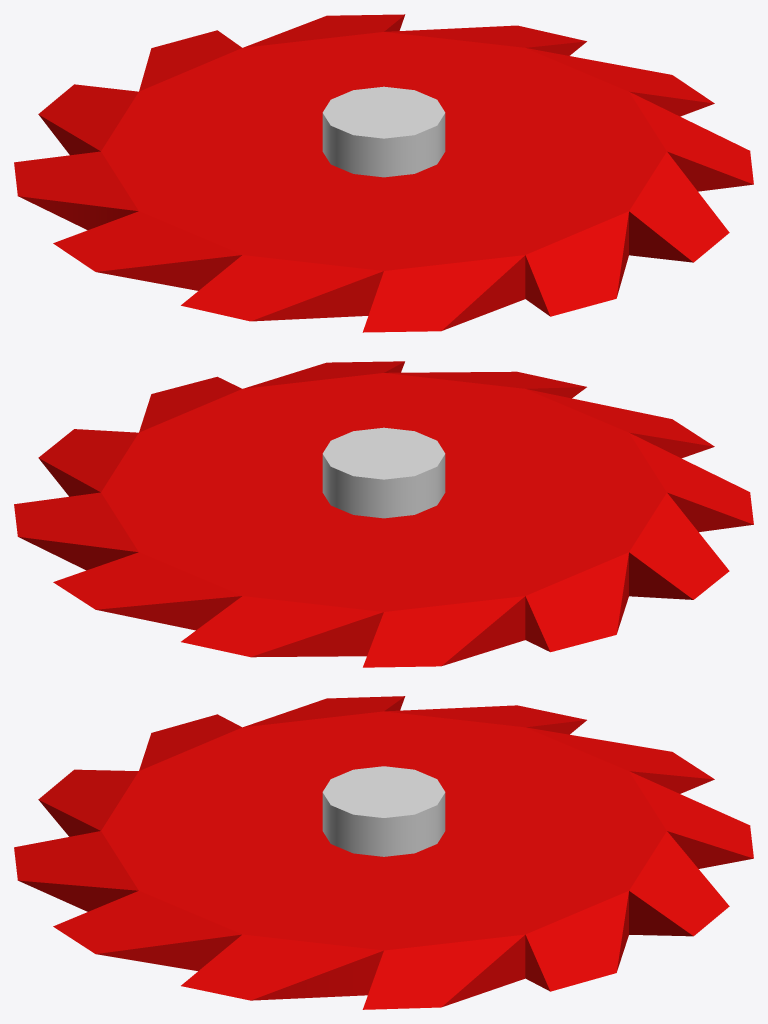
The model's file is blade.fbx.
3 renders of one model, top to bottom at view 1: azimuth 30°, elevation 25°; view 2: azimuth 150°, elevation 25°; view 3: azimuth 270°, elevation 25°, orthographic.
Visible parts, largest first — view 1: rotating_saw; view 2: rotating_saw; view 3: rotating_saw.
Part boxes in pixels (bbox=[...]): rotating_saw: bbox=[14, 14, 753, 332]; rotating_saw: bbox=[14, 361, 753, 667]; rotating_saw: bbox=[14, 696, 753, 1009].
Size of the model in its own units: 121 by 21.96 by 121.
